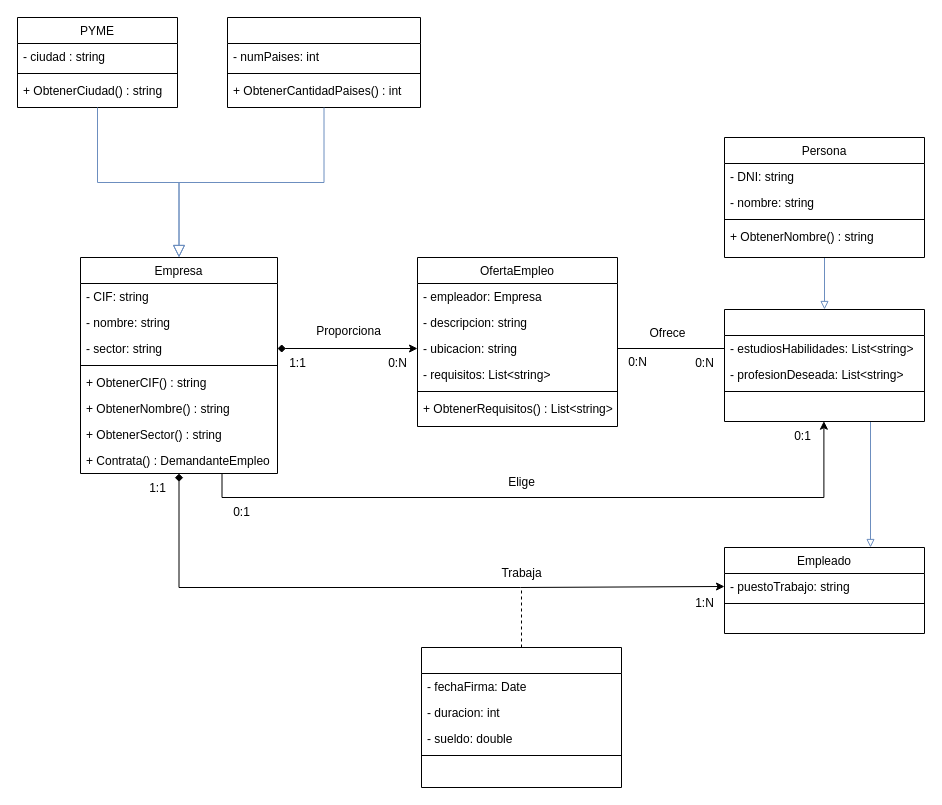
This 942x805 diagram has some shape labels left out. Here are the shapes that lost their labels. From the top down, the box of each, then its label:
(226, 16, 420, 108): Multinacional
(724, 308, 924, 422): DemandanteEmpleo
(420, 646, 622, 788): Contrato
